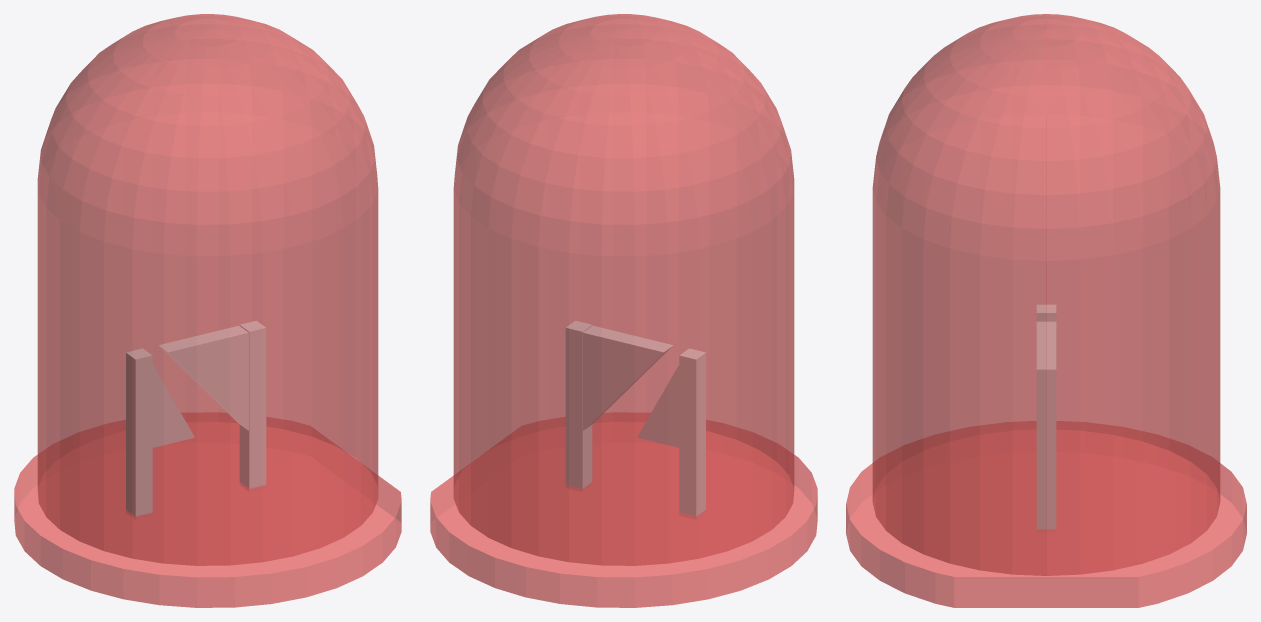
Rendered from led_top.glb.
The picture shows the model from 3 angles, left to right: view 1: azimuth 30°, elevation 25°; view 2: azimuth 150°, elevation 25°; view 3: azimuth 270°, elevation 25°; orthographic projection.
Visible parts, largest first — view 1: Sphere, Cylinder.001, Cube.004, Cube.001, Cube.002, Cube.003; view 2: Sphere, Cylinder.001, Cube.004, Cube.001, Cube.002, Cube.003; view 3: Sphere, Cylinder.001, Cube.002, Cube.004.
Boxes of the visible parts, <box> form: Sphere: <box>37,14,378,565</box>; Cylinder.001: <box>14,413,401,607</box>; Cube.004: <box>159,325,248,430</box>; Cube.001: <box>126,348,152,517</box>; Cube.002: <box>239,321,266,489</box>; Cube.003: <box>152,365,194,447</box>; Sphere: <box>453,14,794,565</box>; Cylinder.001: <box>430,413,817,607</box>; Cube.004: <box>583,325,672,430</box>; Cube.001: <box>679,348,705,517</box>; Cube.002: <box>565,321,592,489</box>; Cube.003: <box>637,365,679,447</box>; Sphere: <box>872,14,1220,575</box>; Cylinder.001: <box>846,421,1246,607</box>; Cube.002: <box>1036,361,1056,529</box>; Cube.004: <box>1036,321,1056,361</box>.
Size of the model in its own units: 2.13 by 3.2 by 2.31.
